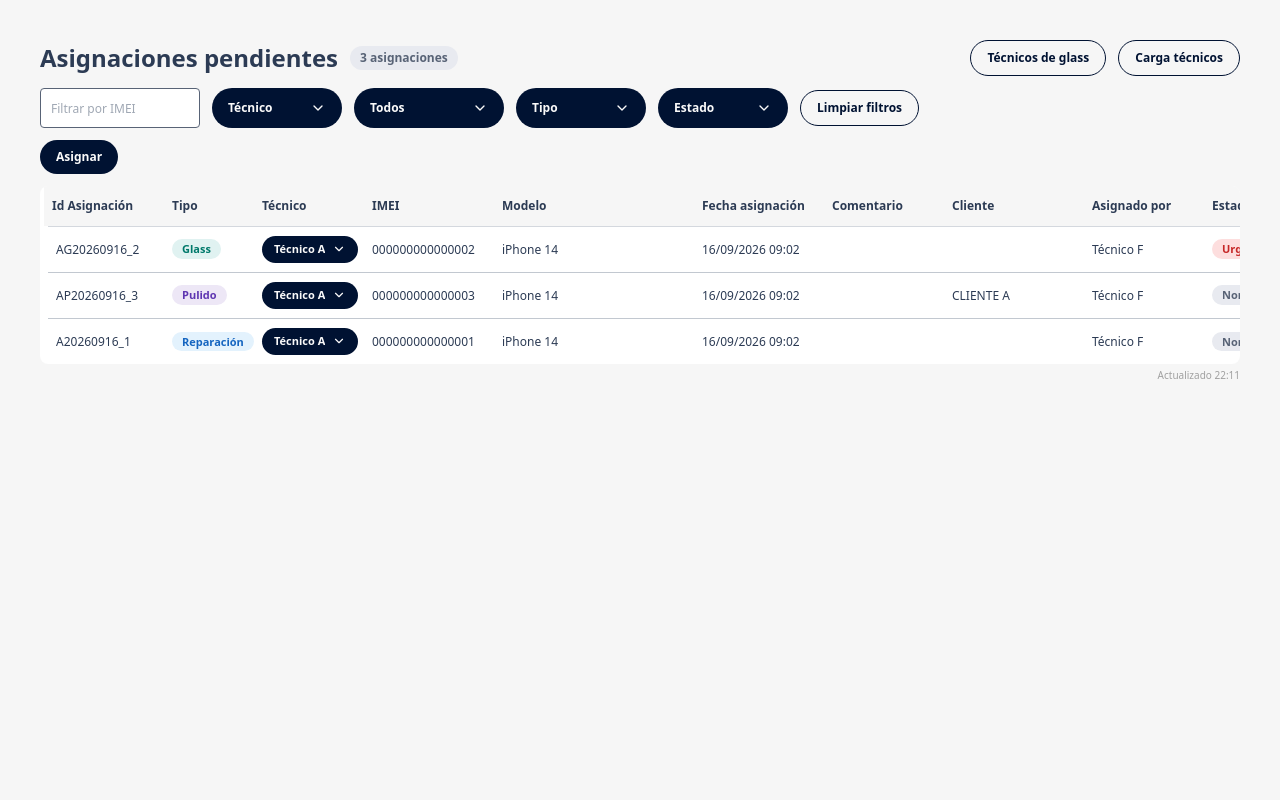
Test case: AsignacionesPage · el sondeo se congela mientras hay algo abierto (D4) › el botón Asignar abre el modal y congela el refresco
Check: the text "A20260916_1" is shown, box [44, 318, 164, 364]
Click the button "Asignar" at (79, 157), box [40, 140, 118, 174]
Wait 120000 ms
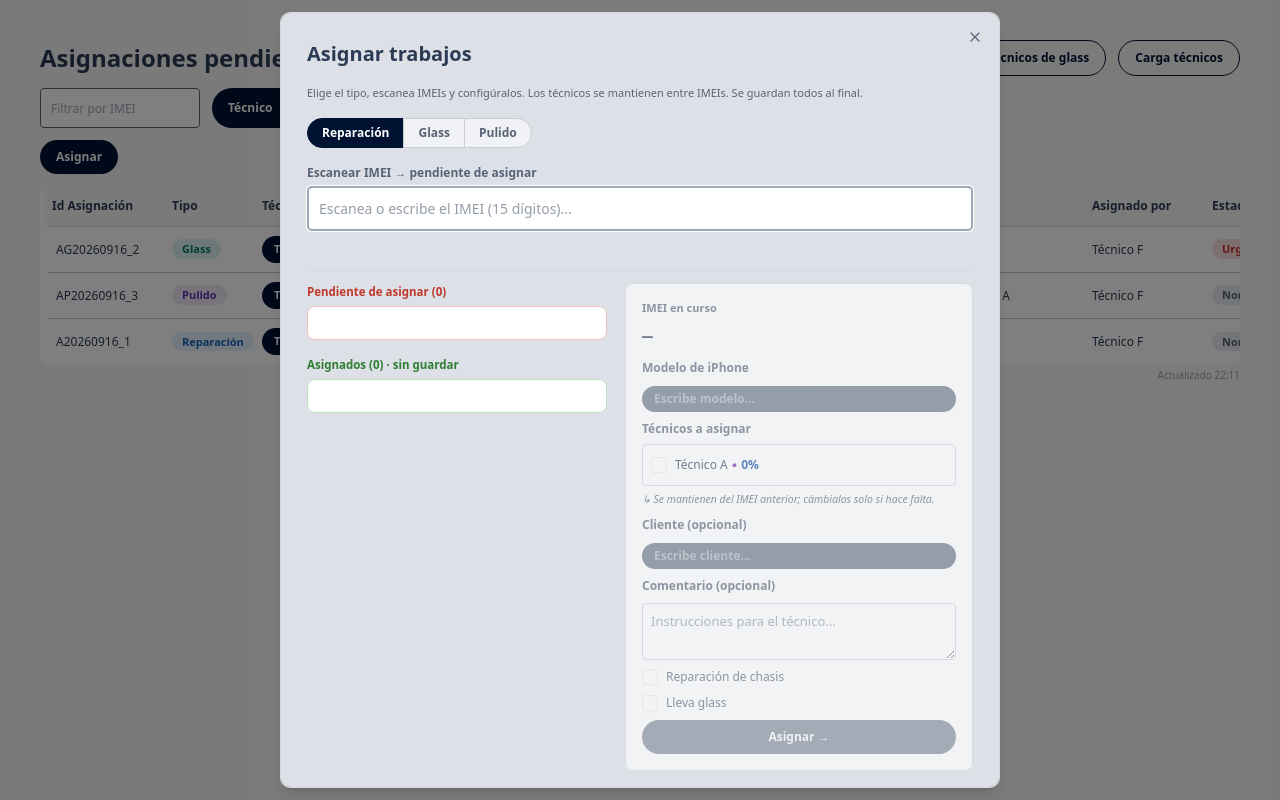
Check: the heading "Asignar trabajos" is shown, box [307, 40, 472, 67]
Press Escape
Wait 60000 ms
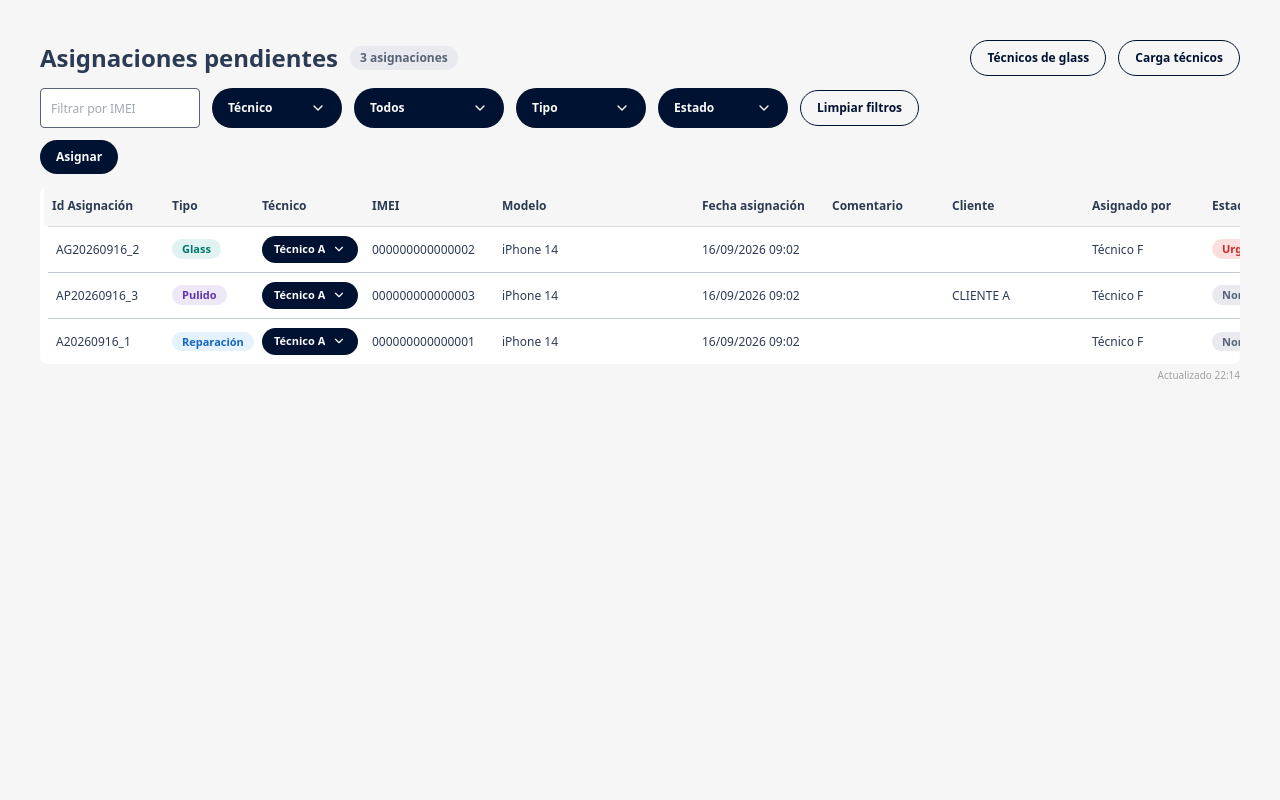
Check: the heading "Asignar trabajos" is gone
